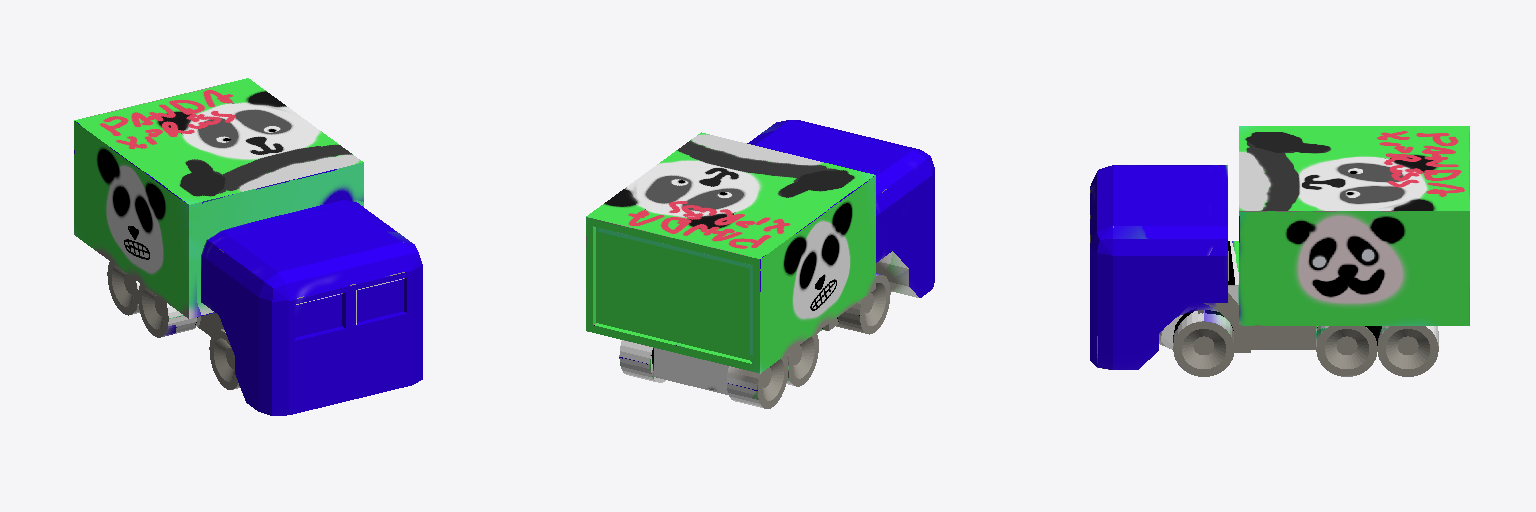
3 views of the same model, side by side, from view 1: azimuth 30°, elevation 25°; view 2: azimuth 150°, elevation 25°; view 3: azimuth 270°, elevation 25° (orthographic).
Visible parts, largest first — view 1: Cube; view 2: Cube; view 3: Cube.
Boxes of the visible parts, box(x1,y1,x2,y2) form: Cube: box(74, 78, 422, 415); Cube: box(586, 120, 934, 408); Cube: box(1090, 126, 1469, 376).
Bounding box in the file's own units: 3.21 × 3.06 × 6.04.
Materials: 1 (1 with a texture image).